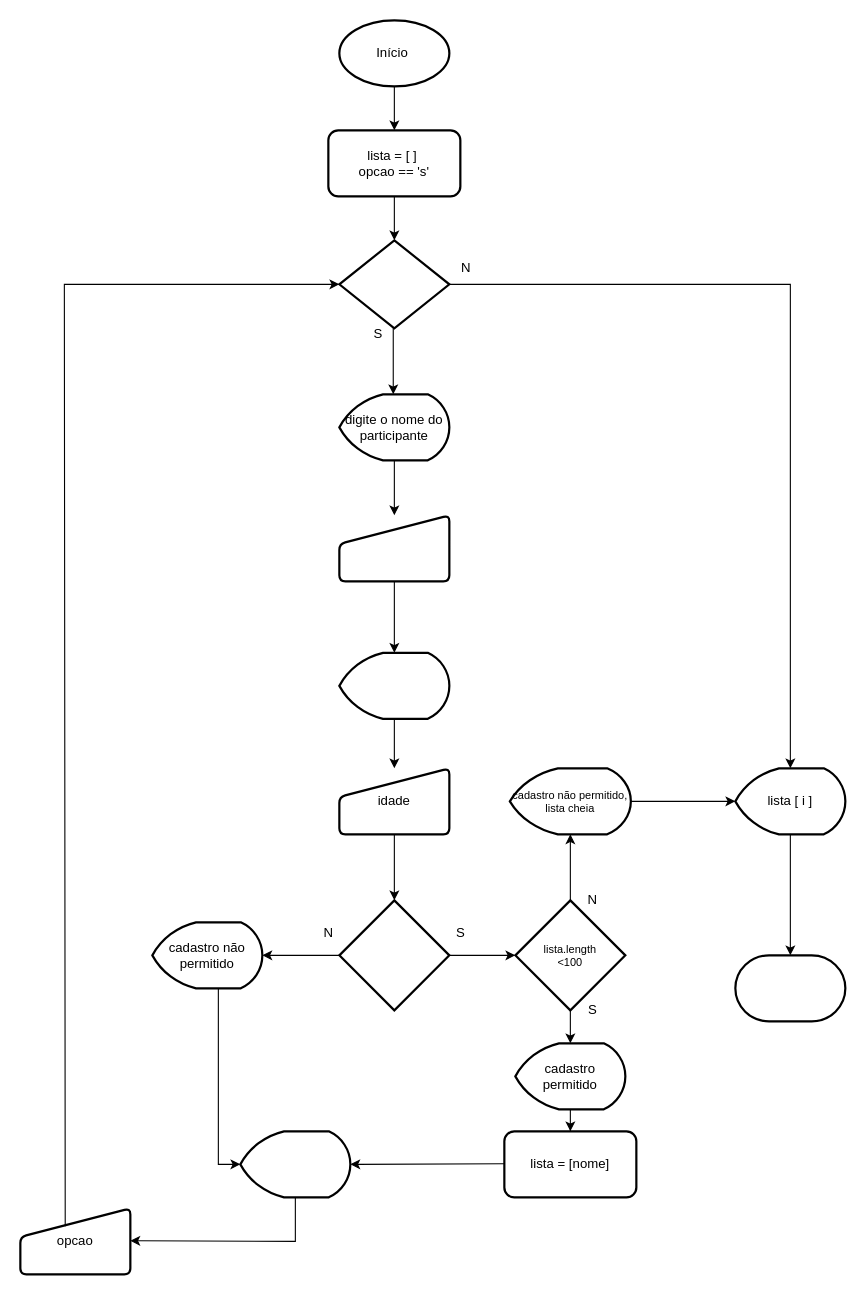
This 865x1294 diagram has some shape labels left out. The centre of each missing label's shape, as x and y in pixels:
deseja cadastrar outro participante?: point (295, 1164)
digite a idade do participante: point (394, 685)
Fim: point (790, 988)
idade > 18: point (394, 955)
nome: point (394, 548)
opcao == 's': point (394, 284)
